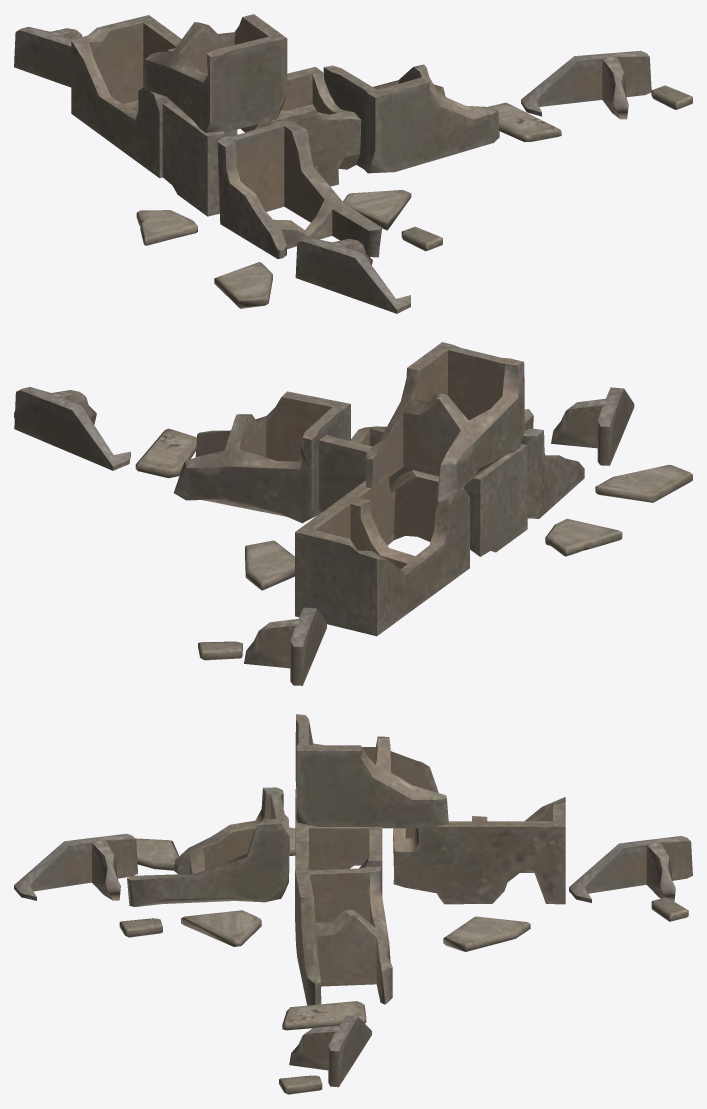
Rendered from breeze_block_pile_a.glb.
3 views of the same model, one above another, from view 1: azimuth 30°, elevation 25°; view 2: azimuth 150°, elevation 25°; view 3: azimuth 270°, elevation 25° (orthographic). The views are drawn at different scales.
Visible parts, largest first — view 1: breeze_block_pile_a; view 2: breeze_block_pile_a; view 3: breeze_block_pile_a.
Boxes of the visible parts, x1,y1,x2,y2 form: breeze_block_pile_a: (14,14,692,313); breeze_block_pile_a: (14,342,692,685); breeze_block_pile_a: (14,714,692,1094).
Bounding box in the file's own units: 1.54 × 0.4404 × 1.67.
1 material, 1 textured.
